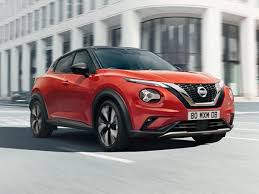Nissan: (30, 48, 233, 144)
